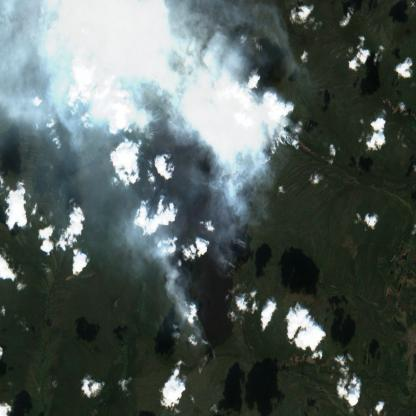fire: (113, 85, 305, 361)
